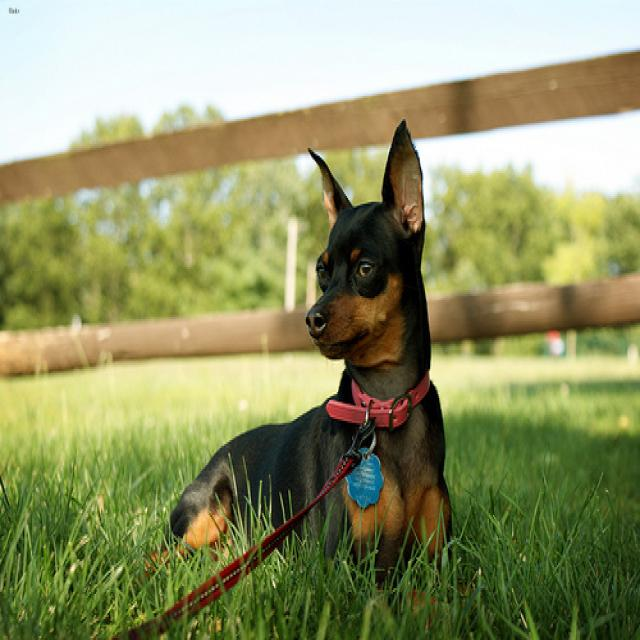dog-miniature_pinscher: (133, 110, 460, 596)
